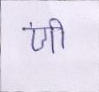i_matra: (50, 18, 68, 49)
